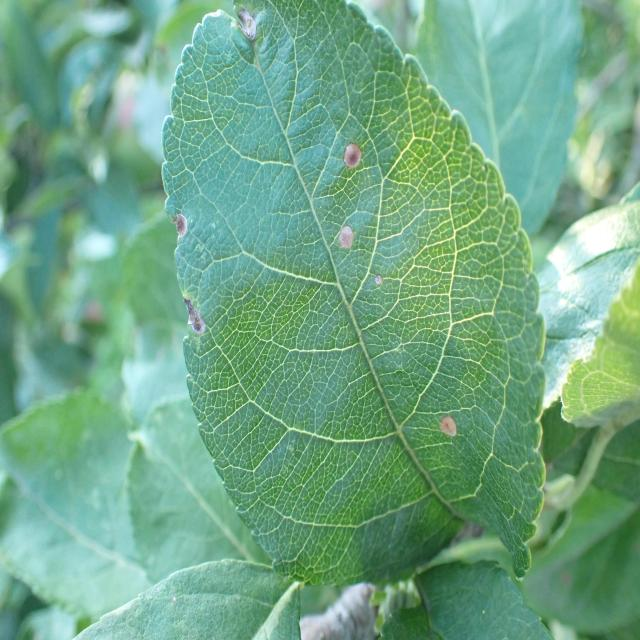frog-eye-leaf-spot: (160, 0, 547, 589)
